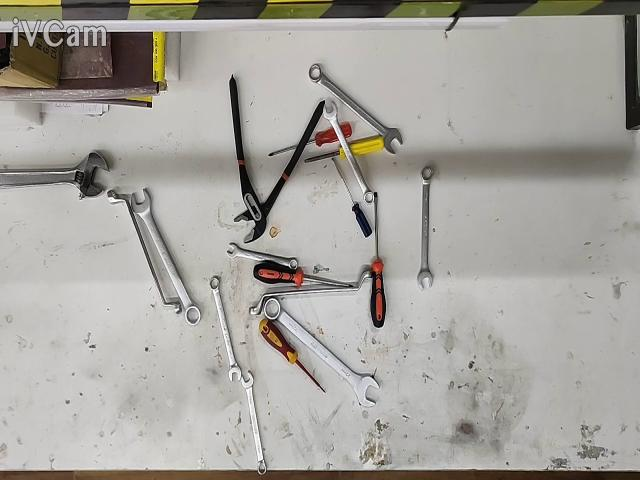Adjustable spanner: (0, 152, 109, 201)
Gas wrench: (229, 75, 325, 244)
Screwdriver: (259, 319, 326, 394), (331, 157, 372, 238), (268, 124, 352, 156), (254, 263, 353, 288), (305, 135, 384, 163), (370, 192, 386, 328)
Wrench: (264, 297, 379, 407), (131, 188, 201, 325), (107, 189, 182, 315), (308, 65, 402, 155), (249, 270, 372, 314), (324, 99, 374, 206), (210, 277, 242, 383), (241, 371, 266, 475), (416, 167, 433, 290), (227, 243, 298, 270)
